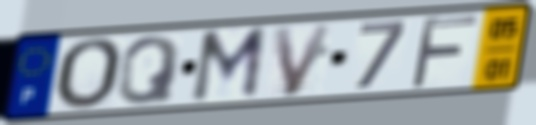7: (352, 17, 412, 93)
F: (406, 13, 480, 92)
M: (187, 24, 271, 107)
O: (53, 36, 127, 113)
Q: (114, 33, 184, 107)
V: (269, 21, 337, 100)
